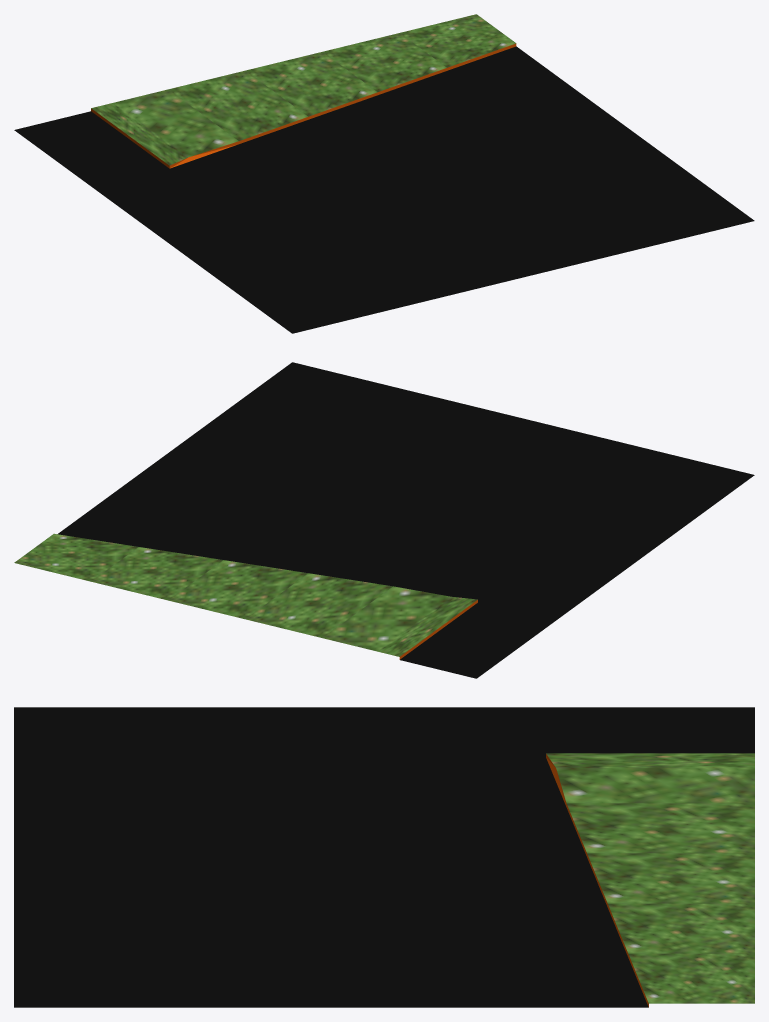
Rendered from 07_carls_hut.obj.
3 views of the same model, one above another, from view 1: azimuth 30°, elevation 25°; view 2: azimuth 150°, elevation 25°; view 3: azimuth 270°, elevation 25° (orthographic). The views are drawn at different scales.
Parts seen in each view (by area): view 1: 07_carls_hut_Grid.007; view 2: 07_carls_hut_Grid.007; view 3: 07_carls_hut_Grid.007.
Part boxes in pixels (bbox=[...]): 07_carls_hut_Grid.007: bbox=[14, 14, 754, 333]; 07_carls_hut_Grid.007: bbox=[14, 362, 754, 678]; 07_carls_hut_Grid.007: bbox=[14, 707, 754, 1007].
Bounding box in the file's own units: 16 × 0.1 × 16.68.
